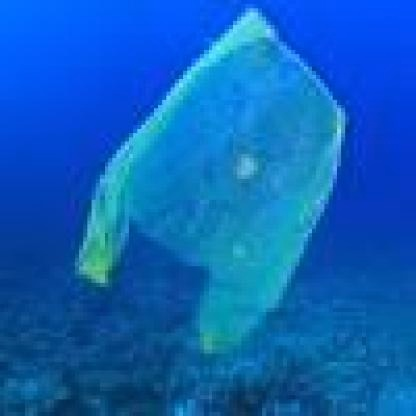pbag: (70, 8, 354, 358)
